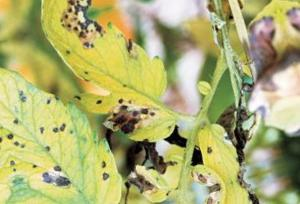Tomato leaf bacterial spot: (0, 21, 128, 204), (47, 0, 191, 161)
